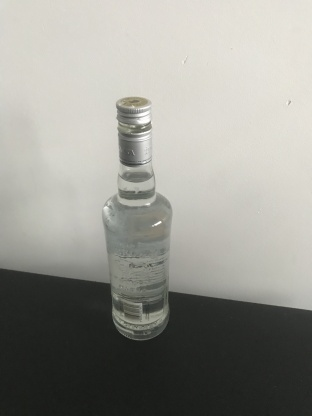nakretka: (115, 96, 153, 167)
